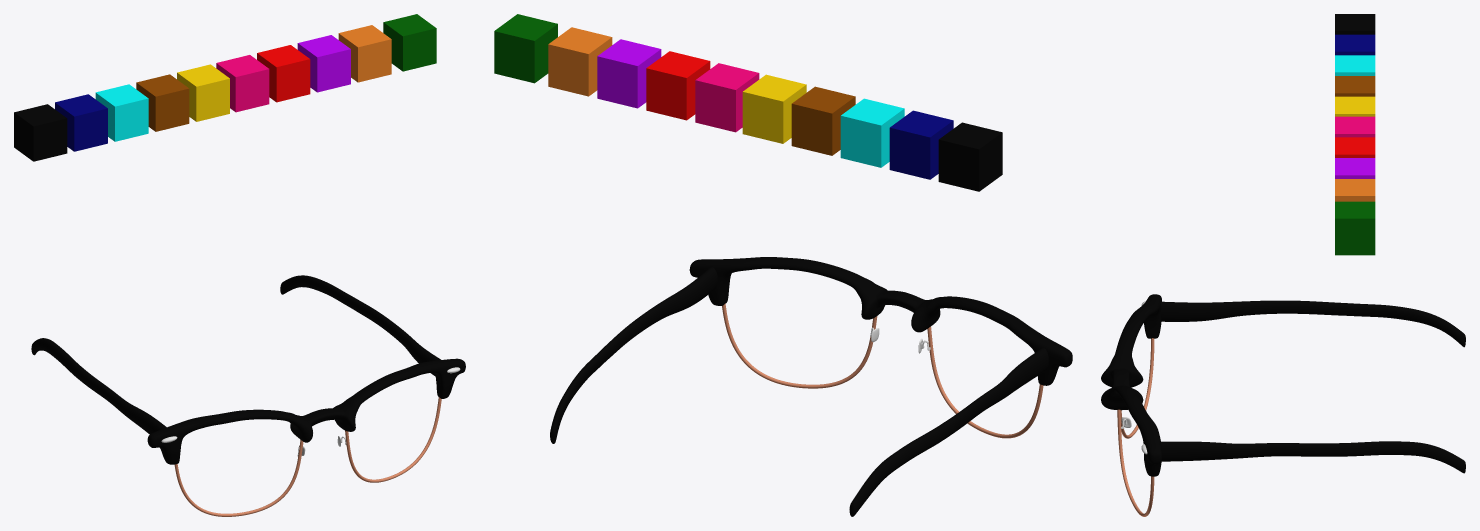
File: uploads_files_3685558_11-20.fbx
3 renders of one model, left to right at view 1: azimuth 30°, elevation 25°; view 2: azimuth 150°, elevation 25°; view 3: azimuth 270°, elevation 25°, orthographic. The views are drawn at different scales.
Visible parts, largest first — view 1: Cube, Cube.001, 1, 10, 4, 7, 8, 3, 9, 5, 2, 6 (+1 smaller); view 2: Cube.001, Cube, 1, 10, 2, 5, 8, 3, 4, 7, 9, 6 (+1 smaller); view 3: Cube.001, Cube, 10, BezierCurve, 9, 2, 6, 3, 4, 7, 8, 1 (+1 smaller).
Boxes of the visible parts, box(x1,y1,x2,y2) form: Cube: box(147, 358, 465, 464); Cube.001: box(31, 275, 440, 434); 1: box(14, 104, 67, 161); 10: box(383, 14, 436, 71); 4: box(136, 74, 189, 131); 7: box(257, 45, 310, 102); 8: box(297, 35, 350, 92); 3: box(95, 84, 148, 141); 9: box(338, 25, 391, 82); 5: box(177, 64, 229, 121); 2: box(55, 94, 107, 151); 6: box(216, 55, 269, 112); Cube.001: box(550, 267, 1048, 516); Cube: box(689, 257, 1072, 385); 1: box(938, 122, 1002, 191); 10: box(494, 14, 557, 83); 2: box(889, 110, 953, 179); 5: box(742, 74, 806, 143); 8: box(597, 39, 661, 108); 3: box(840, 98, 904, 167); 4: box(791, 86, 855, 155); 7: box(646, 51, 710, 120); 9: box(548, 27, 612, 96); 6: box(695, 63, 759, 132); Cube.001: box(1160, 300, 1465, 473); Cube: box(1101, 294, 1161, 476); 10: box(1335, 201, 1375, 255); BezierCurve: box(1117, 338, 1154, 516); 9: box(1335, 179, 1375, 201); 2: box(1335, 34, 1375, 55); 6: box(1335, 116, 1375, 137); 3: box(1335, 55, 1375, 75); 4: box(1335, 76, 1375, 96); 7: box(1335, 137, 1375, 157); 8: box(1335, 158, 1375, 178); 1: box(1335, 14, 1375, 34).
Size of the model in its own units: 546 by 449 by 411.
